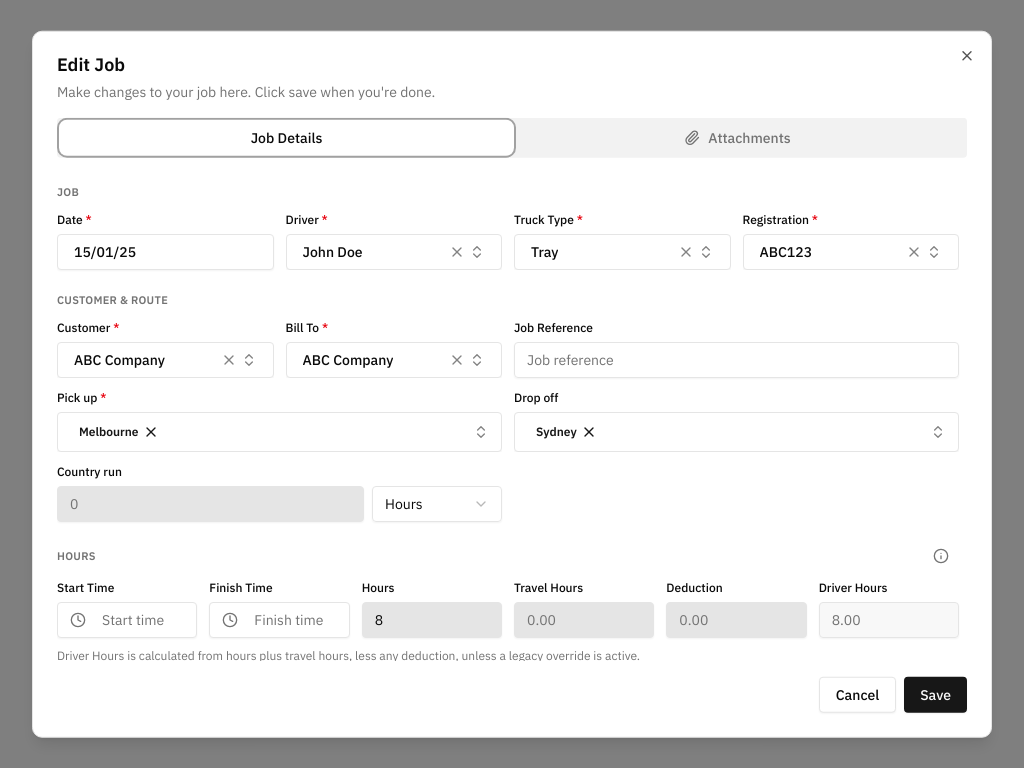
Test: JobForm Staged Files › Rendering - existing job (job has id) › shows existing attachment viewer and Add Attachments button in edit mode
Expected: the heading "Edit Job" is shown, [57,53,125,76]
Click the tab "Attachments" at (738, 138), box [512,122,963,154]
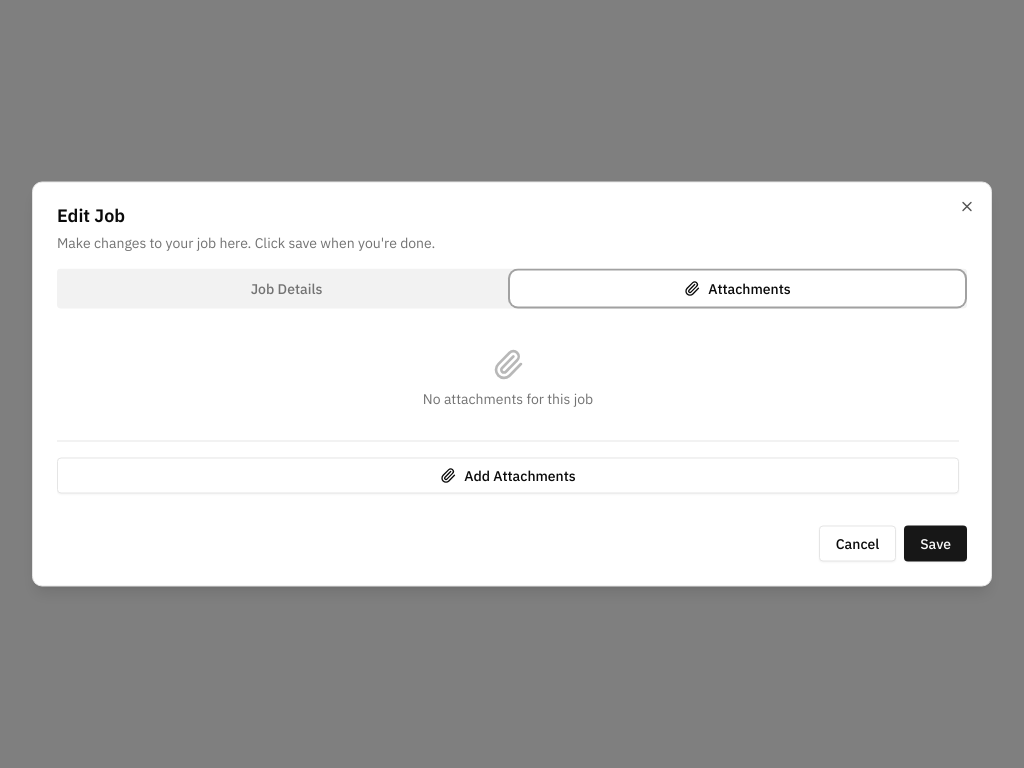
Result: the button with id "add-attachments-btn" is shown at [57,458,959,494]
